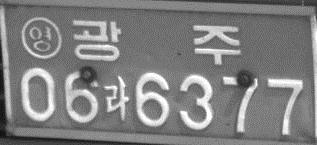0: (19, 67, 55, 122)
3: (177, 74, 213, 131)
6: (134, 71, 169, 127), (63, 69, 99, 123)
7: (220, 74, 259, 134), (265, 77, 304, 137)
광주_D: (71, 18, 243, 66)
라: (102, 74, 130, 123)
영: (21, 15, 62, 60)
